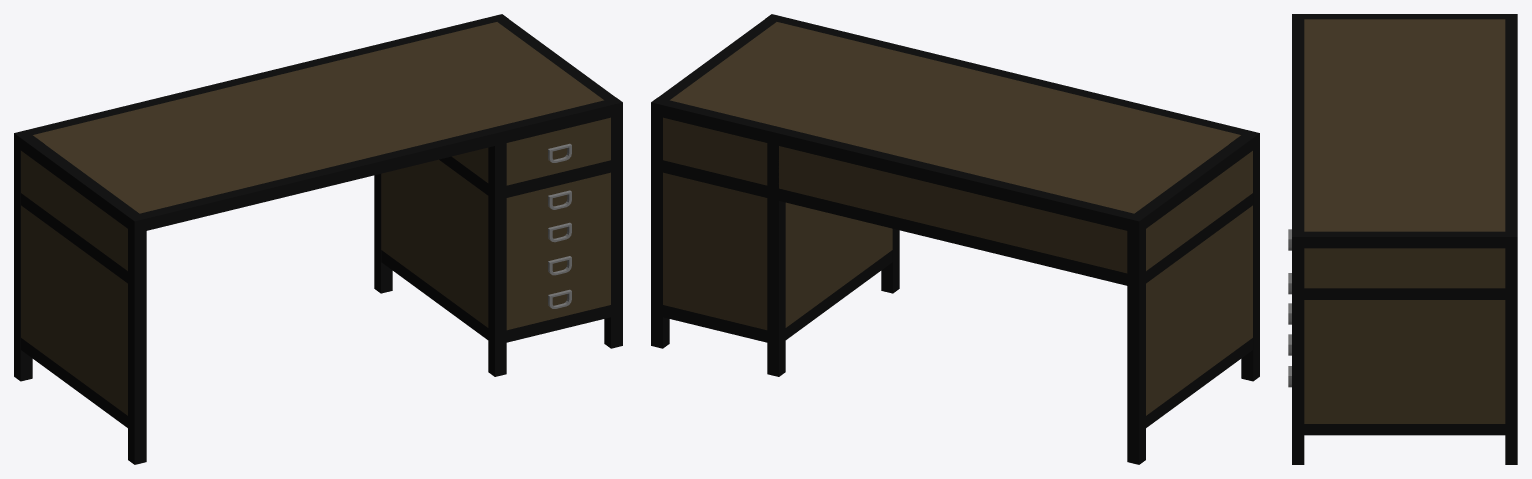
The model's file is staticMesh_prop_Desk.fbx.
3 views of the same model, side by side, from view 1: azimuth 30°, elevation 25°; view 2: azimuth 150°, elevation 25°; view 3: azimuth 270°, elevation 25° (orthographic). The views are drawn at different scales.
Visible parts, largest first — view 1: polySurface21; view 2: polySurface21; view 3: polySurface21.
Boxes of the visible parts, x1,y1,x2,y2 form: polySurface21: [14, 14, 622, 464]; polySurface21: [651, 14, 1259, 464]; polySurface21: [1288, 14, 1517, 464].
Bounding box in the file's own units: 210 × 100 × 91.46.
